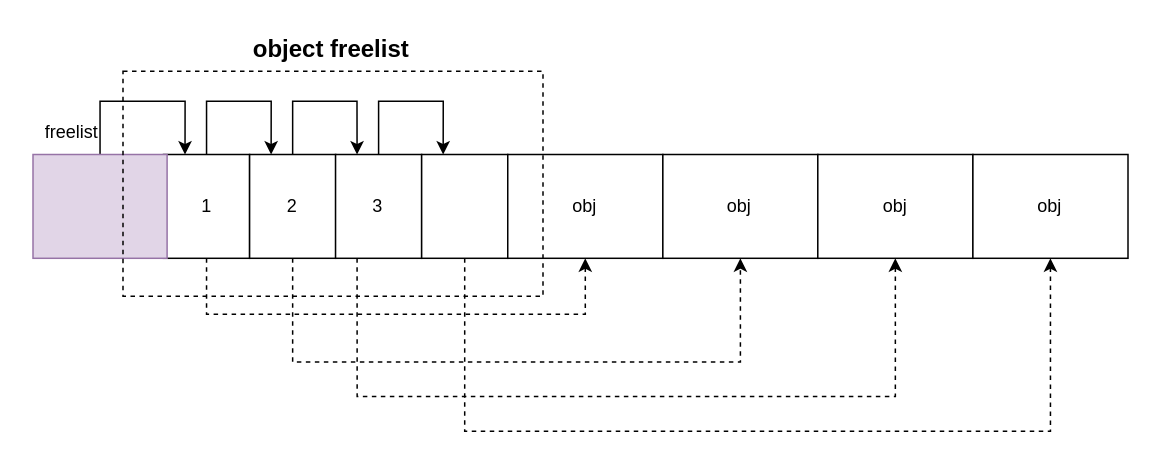
Image size: 1154x470. Some labels were removed from this diagram. Here are the shapes that lost their labels. From the top down, the box of each, then its label:
(32, 153, 167, 258): struct slabmgt
(420, 153, 508, 258): BUFCTL_END
